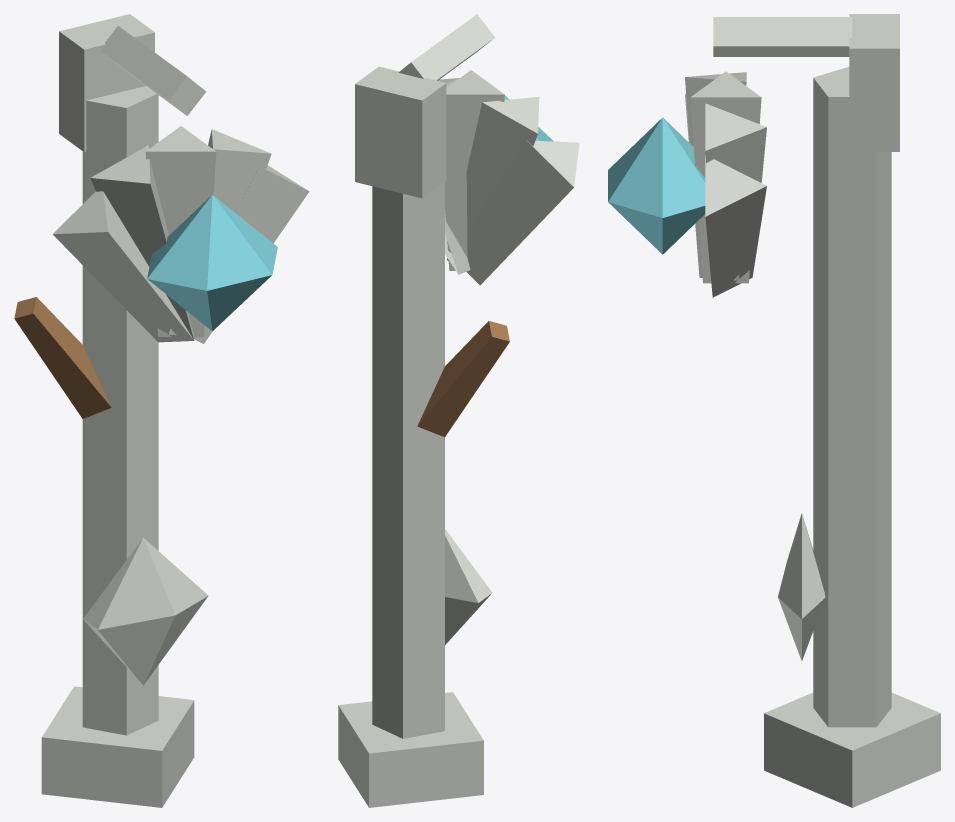
File: Water_LampPost.fbx
3 renders of one model, left to right at view 1: azimuth 30°, elevation 25°; view 2: azimuth 150°, elevation 25°; view 3: azimuth 270°, elevation 25°, orthographic. The views are drawn at different scales.
Parts seen in each view (by area): view 1: Water_LampPost; view 2: Water_LampPost; view 3: Water_LampPost.
Boxes of the visible parts, left/top/right/bottom form: Water_LampPost: left=14, top=14, right=309, bottom=807; Water_LampPost: left=338, top=14, right=579, bottom=807; Water_LampPost: left=608, top=14, right=940, bottom=807.
Bounding box in the file's own units: 43.42 × 131 × 52.66.
